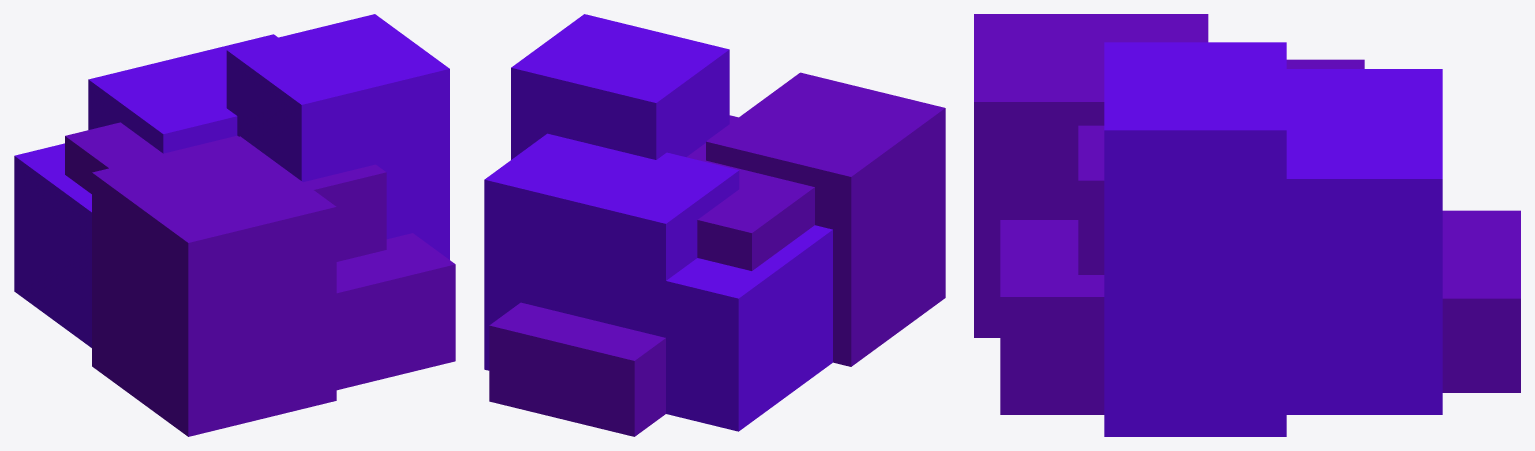
Rendered from Rock2.dae.
The picture shows the model from 3 angles, left to right: view 1: azimuth 30°, elevation 25°; view 2: azimuth 150°, elevation 25°; view 3: azimuth 270°, elevation 25°; orthographic projection. The views are drawn at different scales.
Parts seen in each view (by area): view 1: Rock2; view 2: Rock2; view 3: Rock2.
Boxes of the visible parts, x1,y1,x2,y2 form: Rock2: (14,14,455,436); Rock2: (484,14,945,436); Rock2: (974,14,1520,436).
Size of the model in its own units: 1.7 by 1.3 by 2.1.
Materials: 1 (1 with a texture image).
